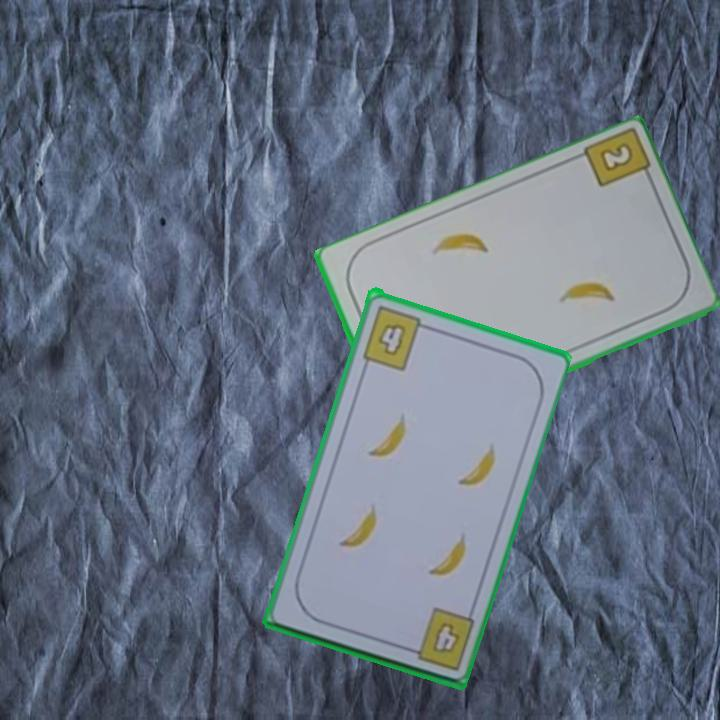2b: (595, 139, 636, 175)
4b: (358, 301, 433, 373), (431, 618, 463, 655)
